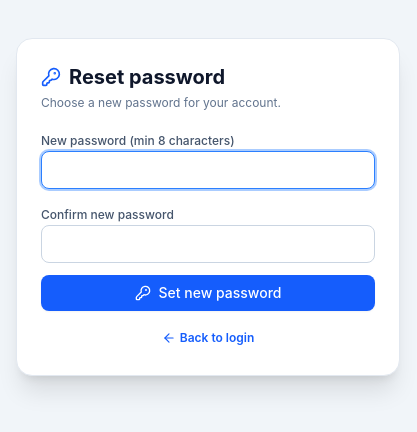
Test: ResetPassword page › shows invalid-or-expired error with a login link on 400
The width and height of the screenshot is (417, 432).
In the password field below "New password (min 8 characters)": (208, 170) 41,151 -> 375,189, type "newpassword1"
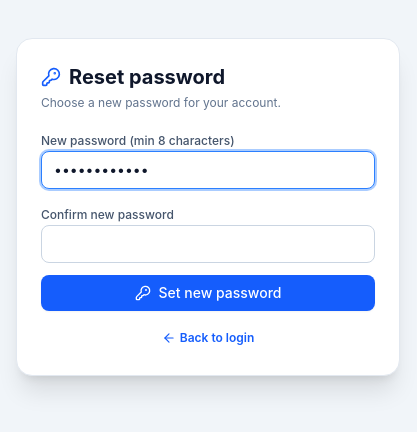
In the password field below "Confirm new password": (208, 244) 41,225 -> 375,263, type "newpassword1"
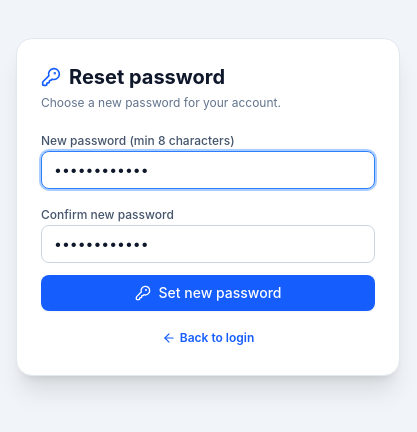
Click the button "Set new password": (208, 293) 41,275 -> 375,311
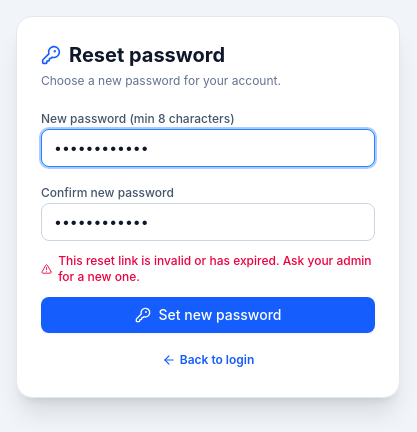
Expected: the link "Back to login" is shown, 162,352 -> 254,368
Expected: the text "invalid or has expired" is shown, 58,253 -> 372,284
